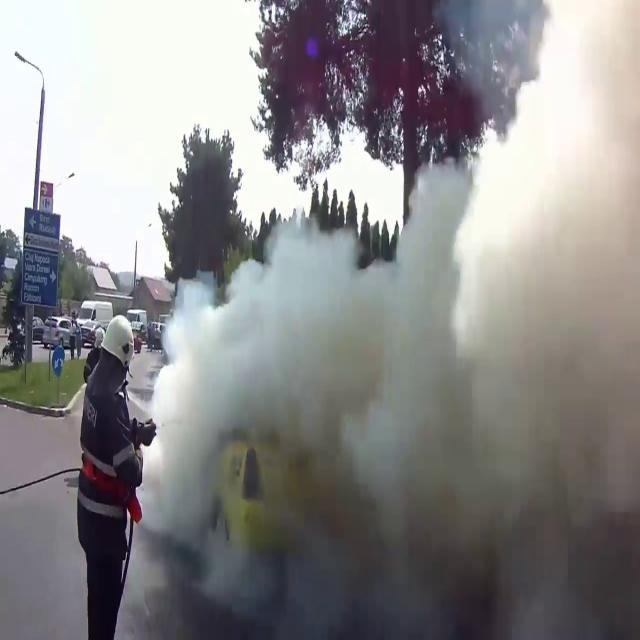Smoke: (136, 92, 640, 635)
